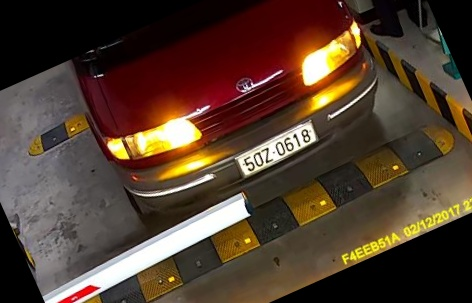plate: (232, 114, 316, 181)
